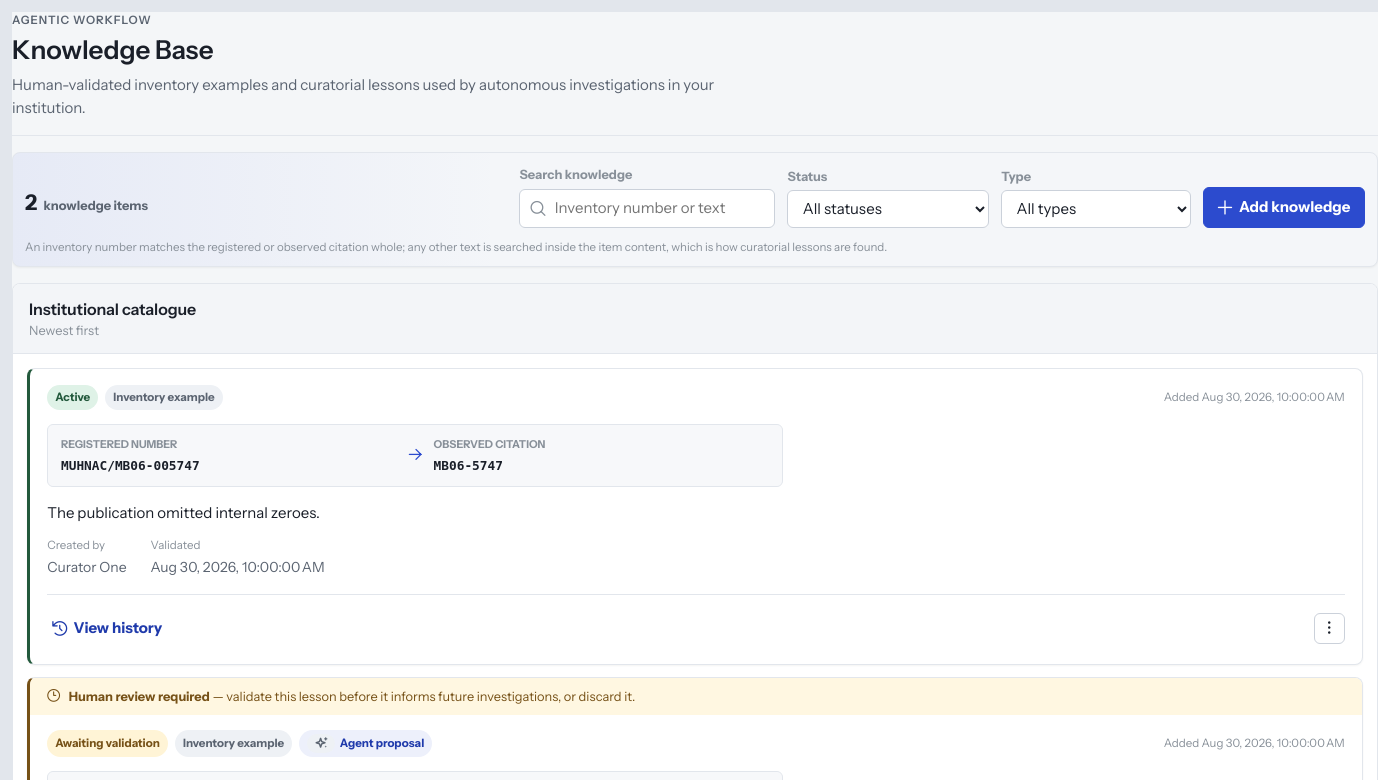
ScientificReturnKnowledgeBasePageComponent › searches words of a lesson that carries no inventory citation
Type "institutional prefix" into the search field labelled "Search knowledge". click: x=647, y=208
box: [519,189,775,228]
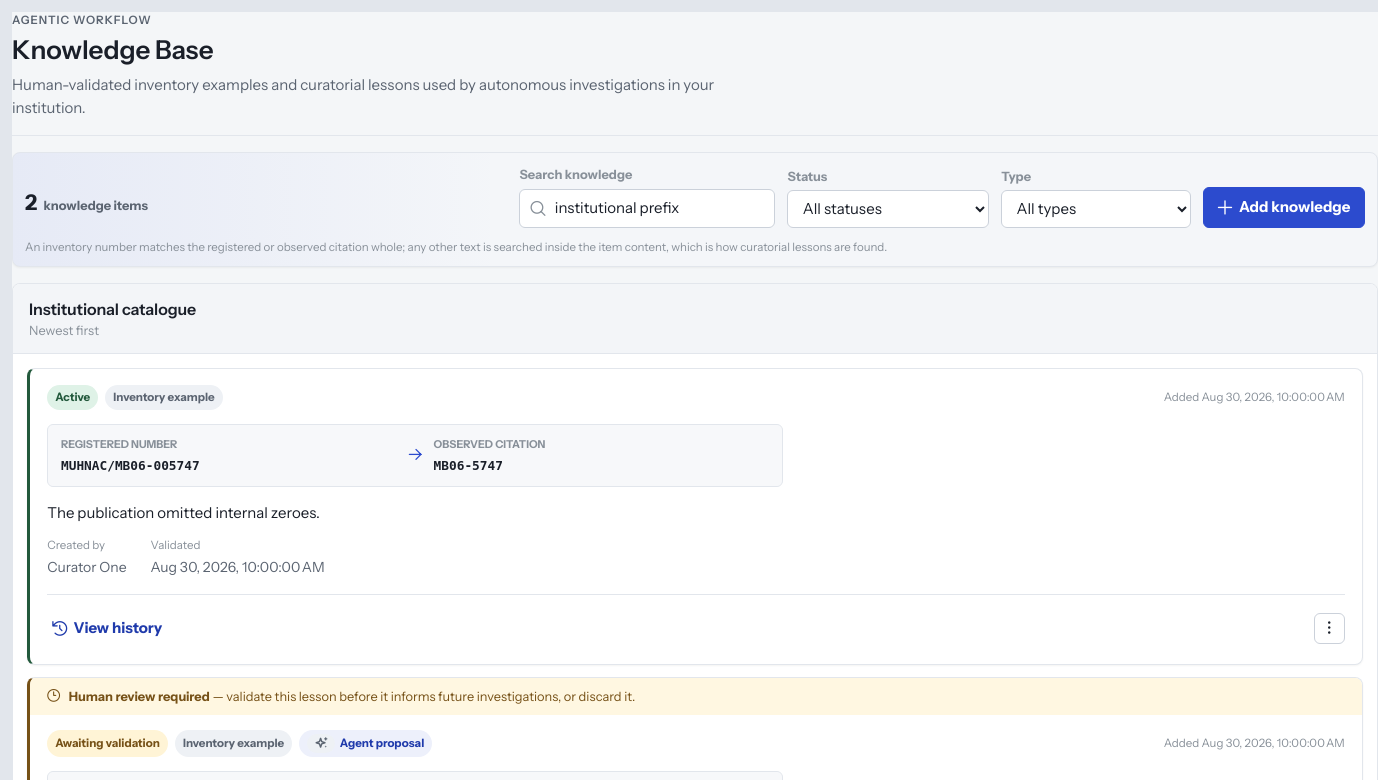
Press Enter in the search field labelled "Search knowledge", box [519,189,775,228]
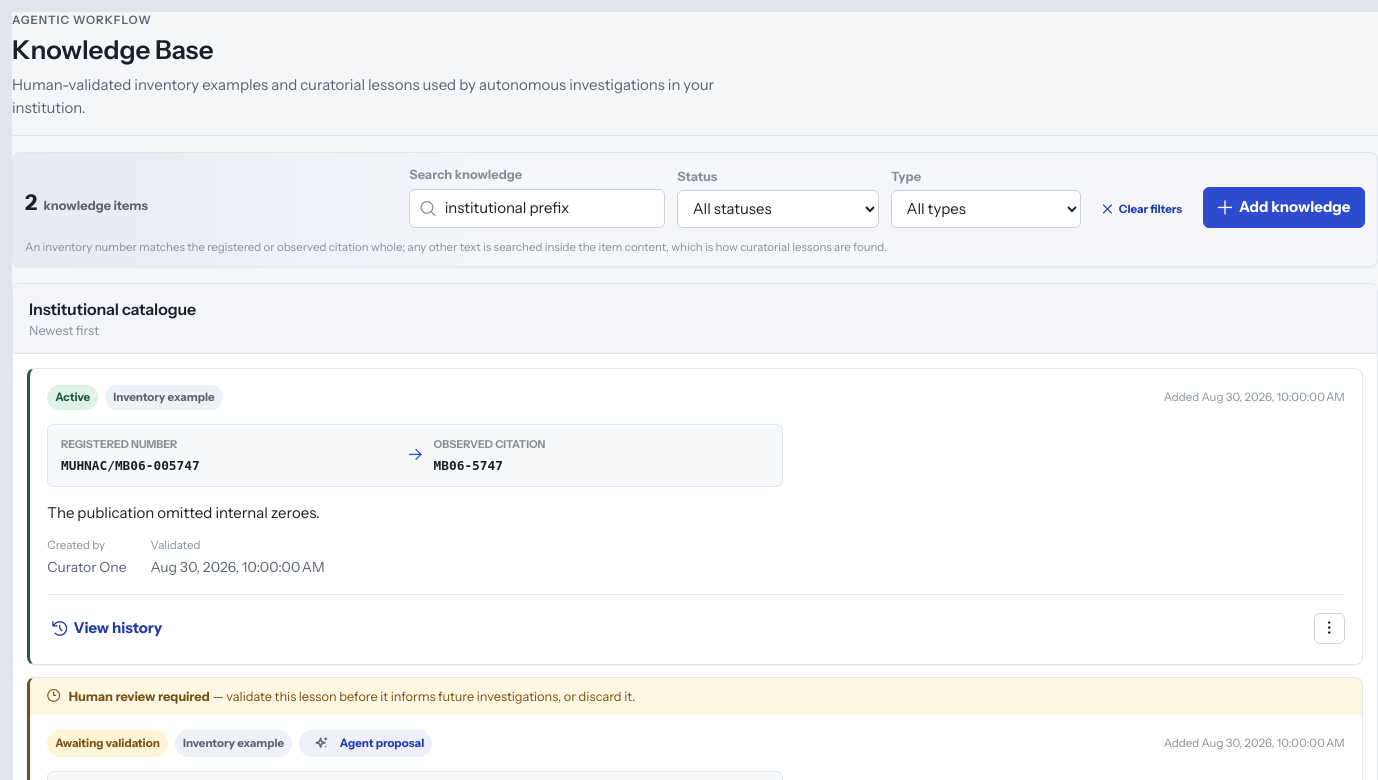
expect the button with class "filters-bar__clear" is shown: met, box [1093,192,1191,228]
